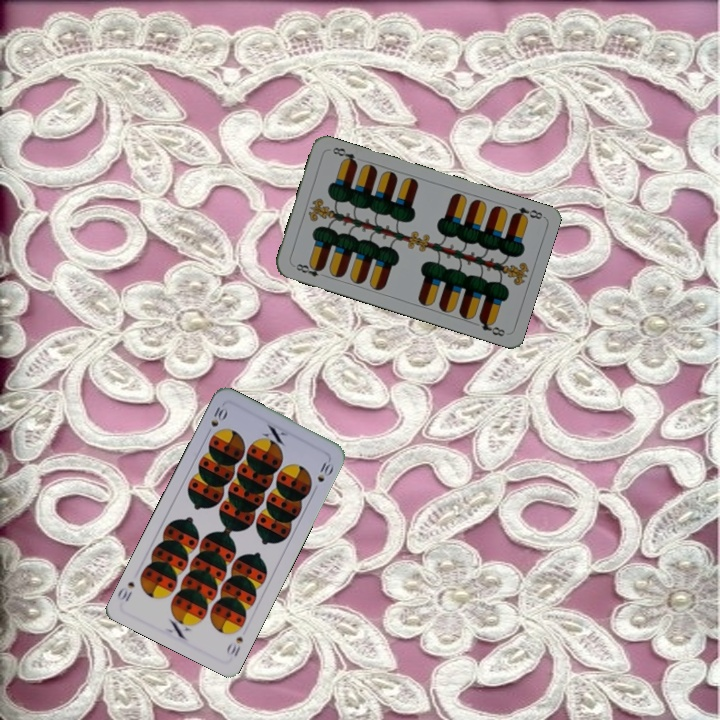E8: (506, 201, 545, 223), (289, 259, 326, 280)
S10: (202, 403, 230, 438), (222, 633, 246, 659)
